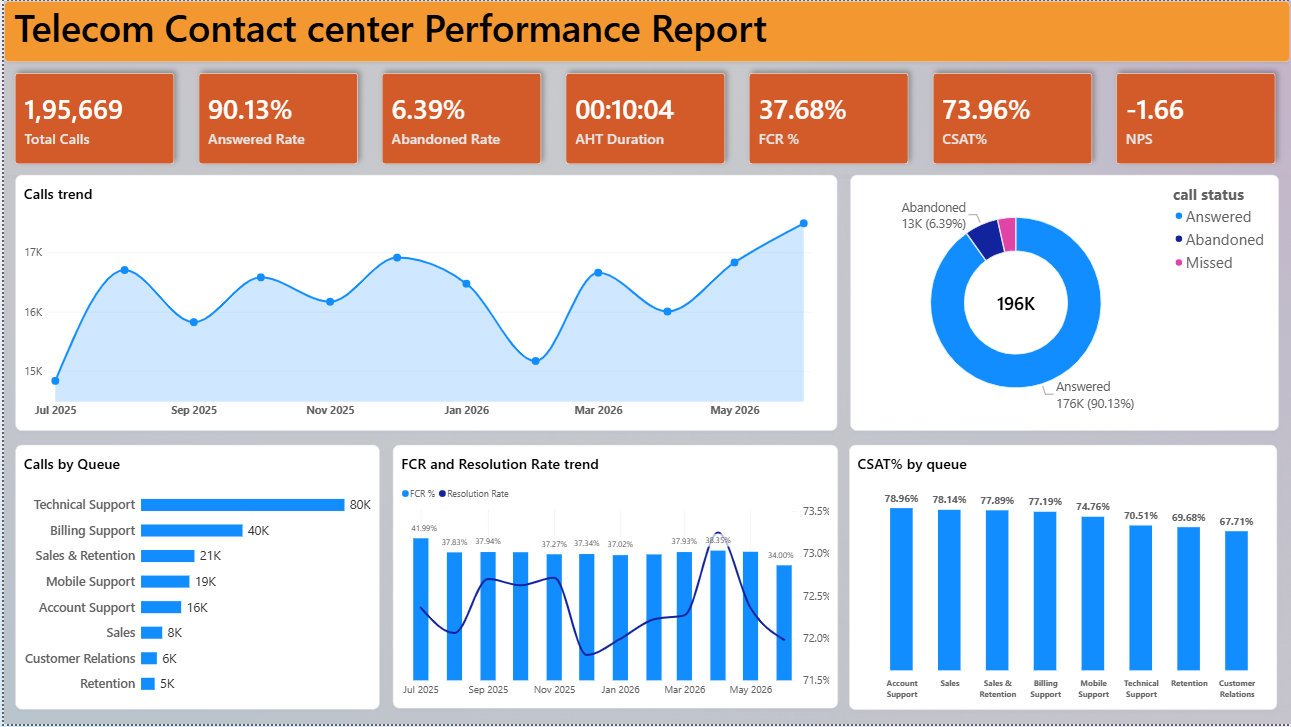

What the dashboard file says about the page in this screenshot:
{"tool":"powerbi","page":{"name":"Dashboard","canvas":[1920,1080],"ordinal":0},"visuals":[{"type":"cardVisual","fields":{"Data":["fact_calls.Total Calls","fact_calls.Answer Rate","fact_calls.Abandoned Rate","fact_calls.AHT Duration","fact_calls.FCR %","fact_calls.CSAT%","fact_calls.eNPS"]},"box":[0,90.9,1919.6,168.8],"z":0},{"type":"textbox","box":[0,0,1920.1,91.4],"z":1000},{"type":"areaChart","title":"Calls trend","fields":{"Y":["fact_calls.Total Calls"],"Category":["calendar.month_year"]},"box":[16.2,259.3,1227.2,382.1],"z":2000},{"type":"donutChart","fields":{"Y":["fact_calls.Total Calls"],"Category":["fact_calls.call_status"]},"box":[1263,259.3,640,382.1],"z":3000},{"type":"clusteredBarChart","title":"Calls by Queue","fields":{"Category":["fact_calls.queue"],"Y":["fact_calls.Total Calls"]},"box":[17.1,661.5,543.7,395.4],"z":4000},{"type":"lineClusteredColumnComboChart","title":"FCR and Resolution Rate trend","fields":{"Category":["calendar.month_year"],"Y":["fact_calls.FCR %"],"Y2":["fact_calls.Resolution Rate"]},"box":[580,662.2,664.6,393.6],"z":5000},{"type":"clusteredColumnChart","fields":{"Category":["fact_calls.queue"],"Y":["fact_calls.CSAT%"]},"box":[1262,662.2,639.1,396],"z":6000}]}

Visuals, with their boxes in screenshot pixels (x1, y1, x2, y2), scaled from the page's 1920x1080 canvas onto the 1291x727 screenshot:
cardVisual - fact_calls.Total Calls x fact_calls.Answer Rate: 0 61 1290 175
textbox: 0 0 1290 62
"Calls trend" areaChart: 11 175 836 432
donutChart - fact_calls.Total Calls x fact_calls.call_status: 849 175 1280 432
"Calls by Queue" clusteredBarChart: 11 445 377 711
"FCR and Resolution Rate trend" lineClusteredColumnComboChart: 390 446 837 711
clusteredColumnChart - fact_calls.queue x fact_calls.CSAT%: 849 446 1278 712
